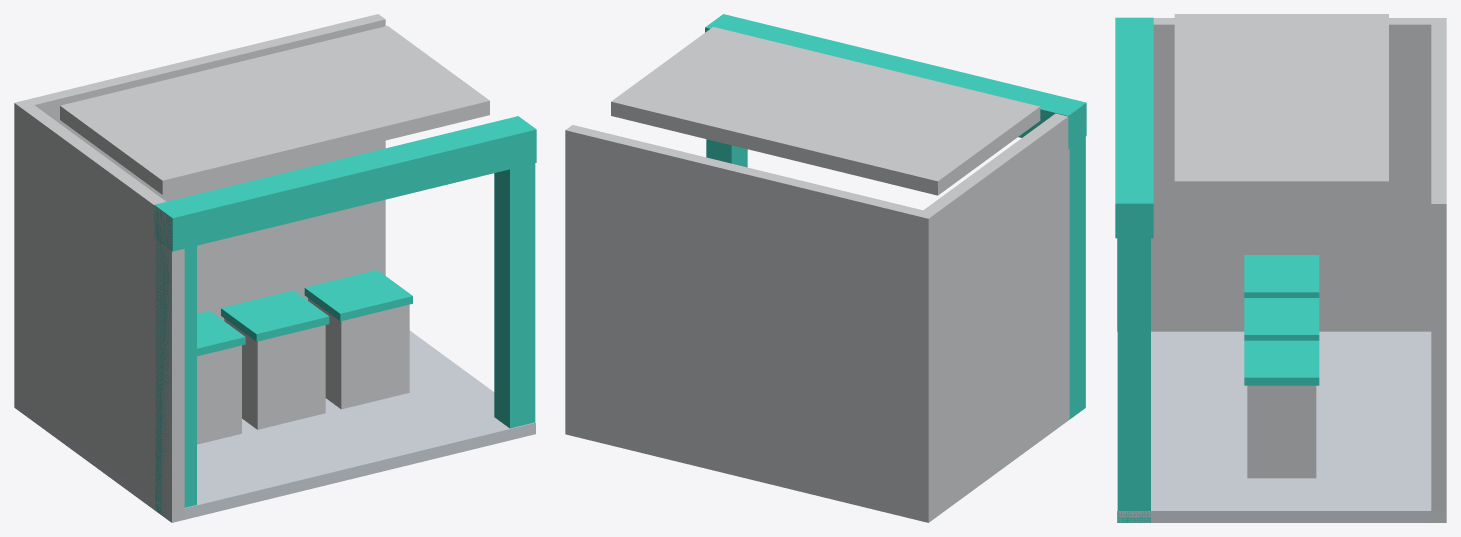
3 views of the same model, side by side, from view 1: azimuth 30°, elevation 25°; view 2: azimuth 150°, elevation 25°; view 3: azimuth 270°, elevation 25° (orthographic). The views are drawn at different scales.
Parts seen in each view (by area): view 1: Exhibition Booth Concept; view 2: Exhibition Booth Concept; view 3: Exhibition Booth Concept.
Part boxes in pixels (bbox=[...]): Exhibition Booth Concept: bbox=[14, 14, 536, 522]; Exhibition Booth Concept: bbox=[565, 14, 1086, 522]; Exhibition Booth Concept: bbox=[1115, 14, 1446, 522].
Size of the model in its own units: 4 by 3.34 by 3.01.
